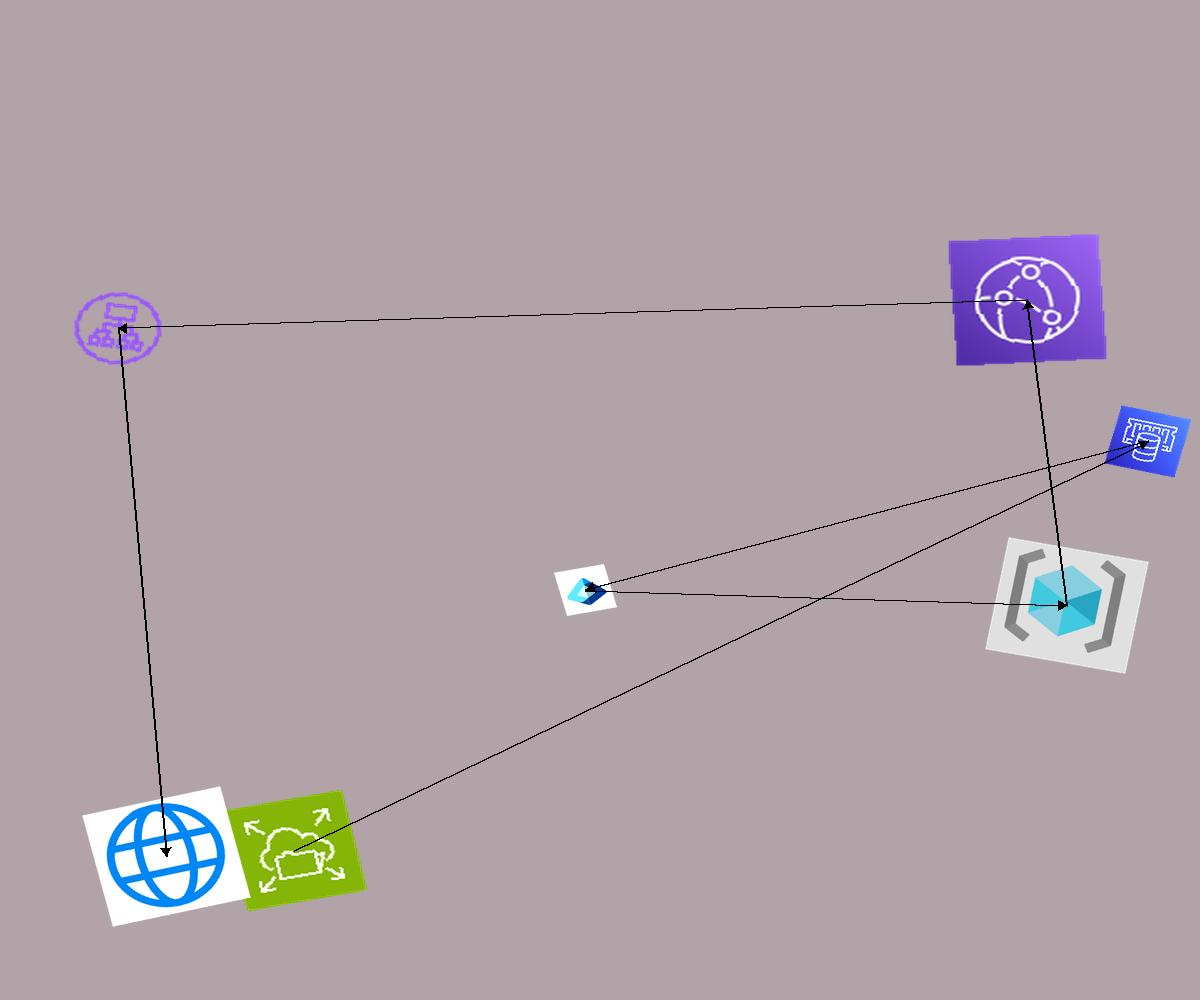AWS-CloudFront: (947, 233, 1108, 367)
AWS-EFS: (221, 789, 368, 912)
AWS-ElastiCache: (1104, 405, 1192, 478)
AWS-Res_Elastic-Load-Balancing_Application-Load-Balancer: (63, 283, 173, 374)
Azure_http: (82, 786, 251, 927)
Azure_microsoft_entra: (554, 564, 617, 616)
Azure_resource_group: (985, 537, 1149, 674)
